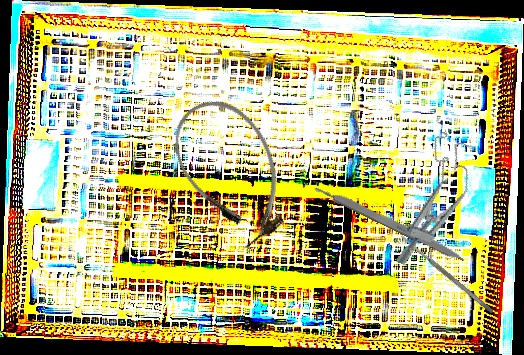Cannula: (157, 84, 307, 258)
Scalpel Handle: (312, 181, 468, 264)
Spatula Surgical: (399, 233, 495, 315)
Speculum: (385, 129, 485, 277)
